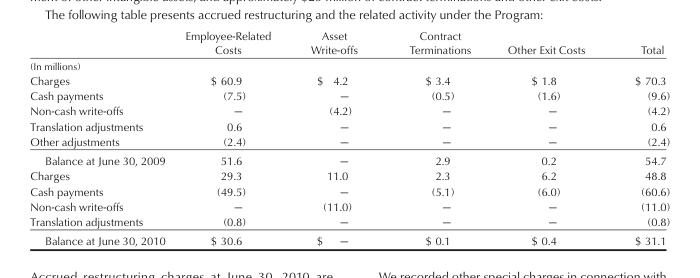table: (29, 28, 669, 247)
table column: (29, 28, 174, 247), (488, 28, 609, 247), (174, 28, 290, 247), (382, 28, 488, 247), (290, 28, 382, 247), (609, 28, 669, 247)
table column header: (29, 28, 669, 72)
table row: (29, 28, 669, 72), (29, 150, 669, 168), (29, 133, 669, 150), (29, 213, 669, 230), (29, 230, 669, 247), (29, 87, 669, 103), (29, 72, 669, 87), (29, 103, 669, 118), (29, 118, 669, 133), (29, 168, 669, 183), (29, 183, 669, 198), (29, 198, 669, 213)
